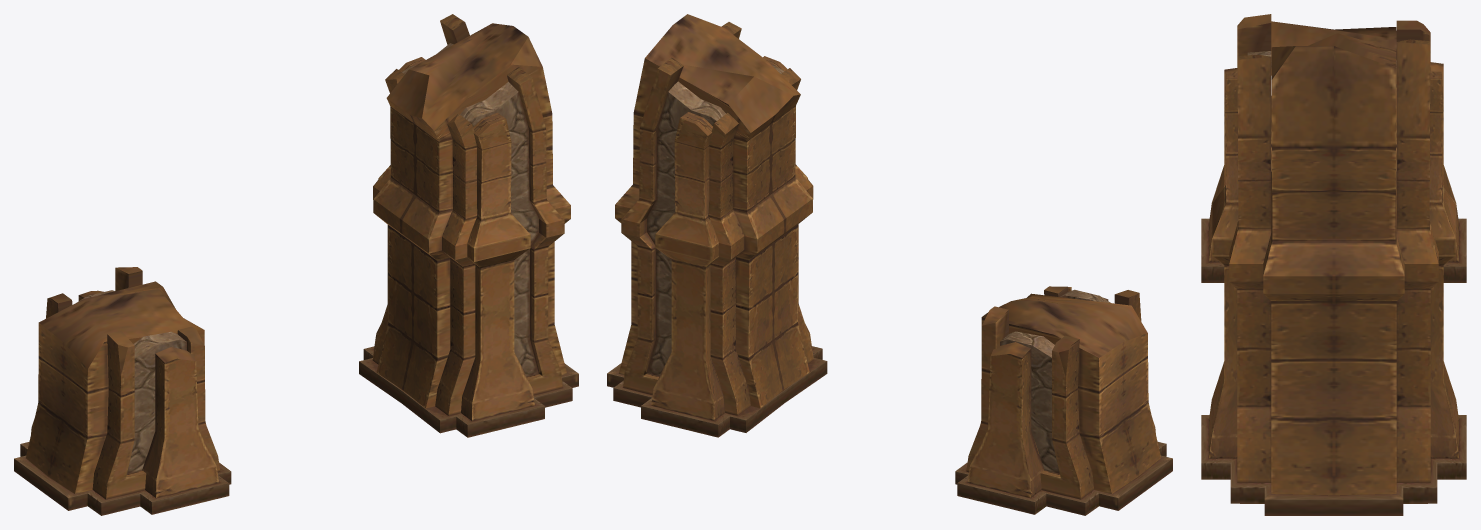
The model's file is shakian_construct_boss_dimension02.FBX.
3 views of the same model, side by side, from view 1: azimuth 30°, elevation 25°; view 2: azimuth 150°, elevation 25°; view 3: azimuth 270°, elevation 25° (orthographic). The views are drawn at different scales.
Parts seen in each view (by area): view 1: shakian_construct_boss_dimension02; view 2: shakian_construct_boss_dimension02; view 3: shakian_construct_boss_dimension02.
Boxes of the visible parts, left/top/right/bottom form: shakian_construct_boss_dimension02: left=14, top=14, right=578, bottom=515; shakian_construct_boss_dimension02: left=607, top=14, right=1172, bottom=515; shakian_construct_boss_dimension02: left=1201, top=14, right=1466, bottom=515.
Size of the model in its own units: 8.81 by 5.77 by 3.11.
